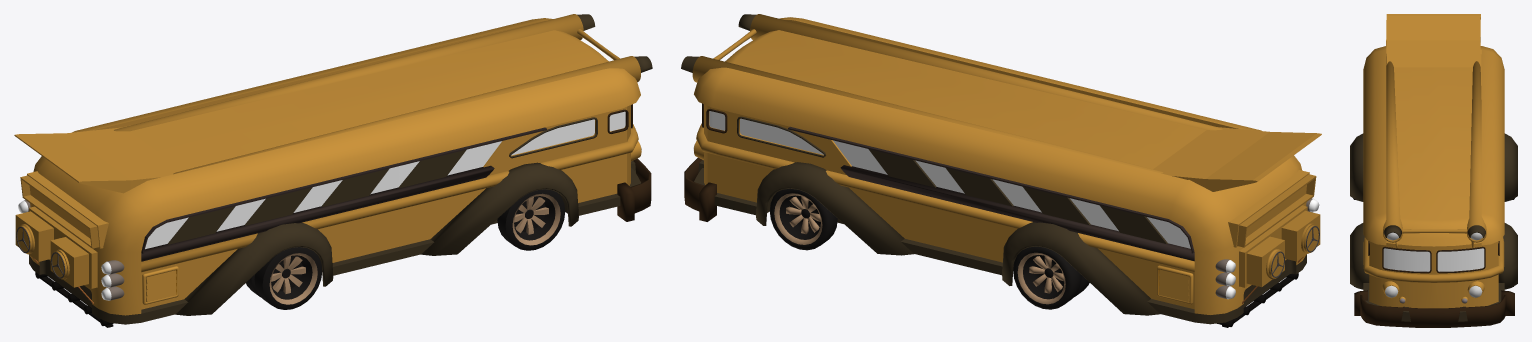
The model's file is bus.gltf.
3 views of the same model, side by side, from view 1: azimuth 30°, elevation 25°; view 2: azimuth 150°, elevation 25°; view 3: azimuth 270°, elevation 25° (orthographic). The views are drawn at different scales.
Visible parts, largest first — view 1: Cylinder.026, Cube.007, Rear_wheel_right, Front_wheel_right; view 2: Cylinder.026, Cube.007, Rear_wheel_left, Front_wheel_left; view 3: Cylinder.026, Cube.007, Cylinder.029, Cylinder.012, Cylinder.031.
Boxes of the visible parts, x1,y1,x2,y2 form: Cylinder.026: [15, 14, 652, 327]; Cube.007: [14, 104, 635, 302]; Rear_wheel_right: [246, 247, 322, 309]; Front_wheel_right: [497, 189, 565, 250]; Cylinder.026: [684, 14, 1319, 327]; Cube.007: [698, 103, 1321, 287]; Rear_wheel_left: [1013, 246, 1089, 309]; Front_wheel_left: [769, 188, 837, 250]; Cylinder.026: [1350, 46, 1517, 327]; Cube.007: [1368, 14, 1499, 321]; Cylinder.029: [1402, 229, 1467, 233]; Cylinder.012: [1382, 281, 1484, 298]; Cylinder.031: [1467, 225, 1485, 237].
Bounding box in the file's own units: 10.57 × 2.75 × 3.62.
